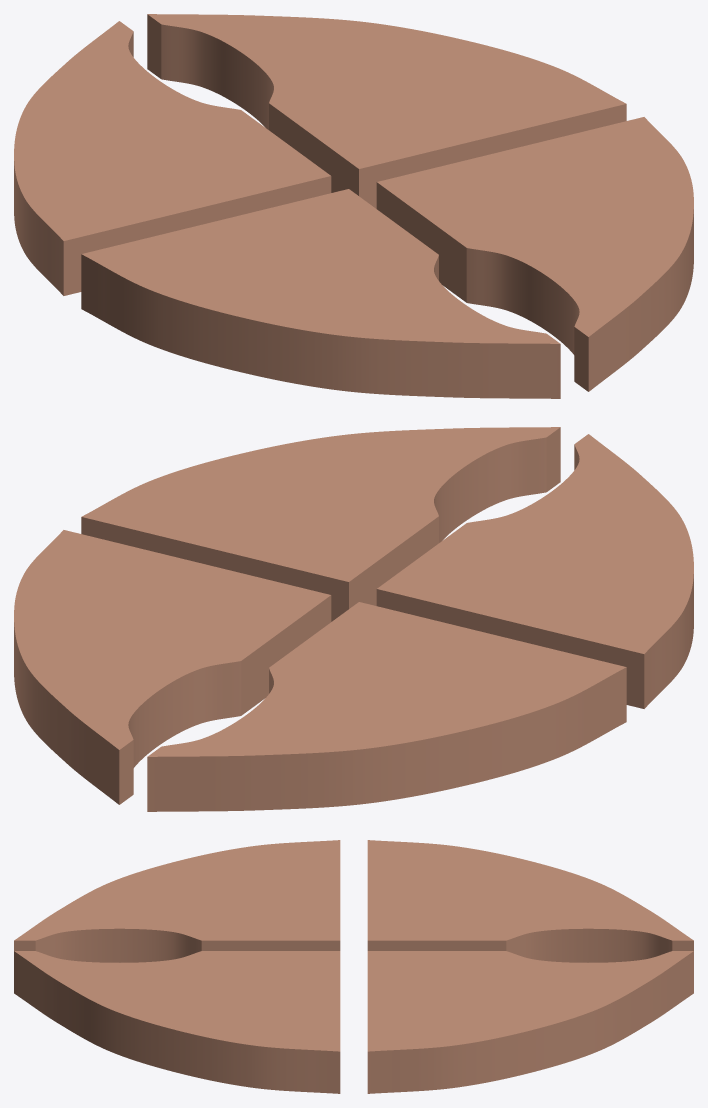
3 views of the same model, one above another, from view 1: azimuth 30°, elevation 25°; view 2: azimuth 150°, elevation 25°; view 3: azimuth 270°, elevation 25° (orthographic). The views are drawn at different scales.
Visible parts, largest first — view 1: slab.003, slab.002, slab, slab.001; view 2: slab.001, slab, slab.002, slab.003; view 3: slab.002, slab, slab.003, slab.001.
Boxes of the visible parts, x1,y1,x2,y2 form: slab.003: (81, 189, 560, 398); slab.002: (376, 117, 693, 391); slab: (147, 14, 626, 208); slab.001: (14, 21, 331, 295); slab.001: (147, 602, 626, 811); slab: (14, 530, 331, 804); slab.002: (81, 427, 560, 621); slab.003: (376, 434, 693, 708); slab.002: (14, 951, 340, 1093); slab: (367, 951, 693, 1093); slab.003: (14, 840, 340, 962); slab.001: (367, 840, 693, 962).
Bounding box in the file's own units: 0.1841 × 0.0172 × 0.25.
